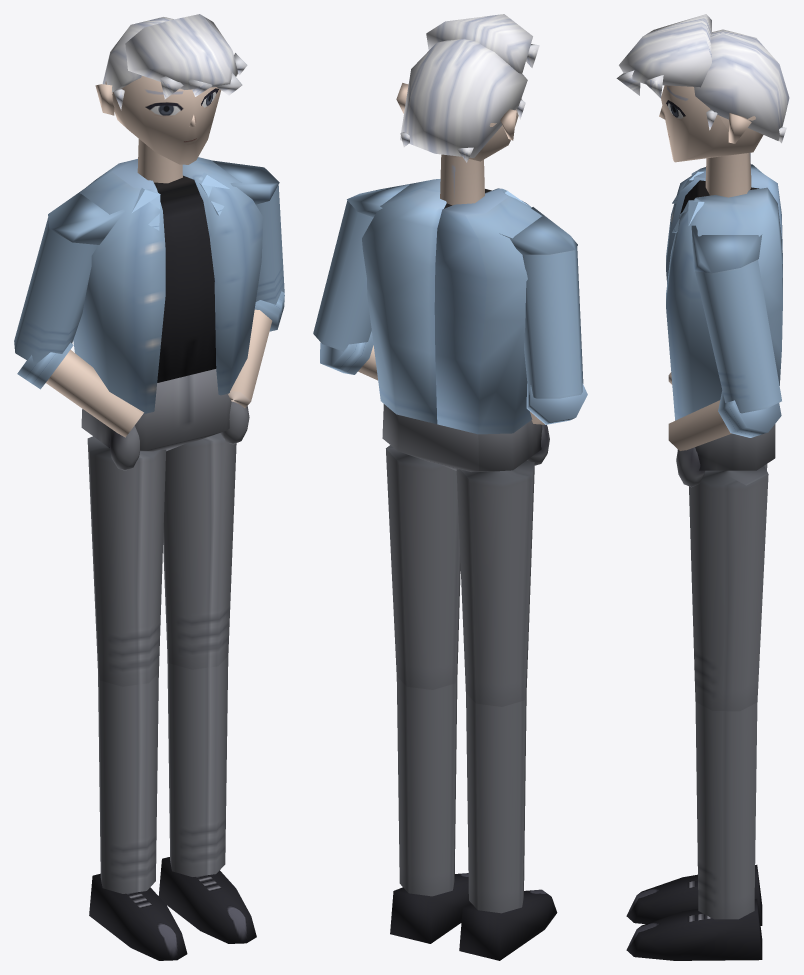
File: pelo_blanco_retro.glb
3 views of the same model, side by side, from view 1: azimuth 30°, elevation 25°; view 2: azimuth 150°, elevation 25°; view 3: azimuth 270°, elevation 25° (orthographic).
Visible parts, largest first — view 1: personaje; view 2: personaje; view 3: personaje.
Part boxes in pixels (x1=…): personaje: x1=14, y1=14, x2=284, y2=960; personaje: x1=313, y1=14, x2=587, y2=960; personaje: x1=616, y1=14, x2=789, y2=960.
Size of the model in its own units: 0.546 by 1.78 by 0.307.
Materials: 1 (1 with a texture image).
